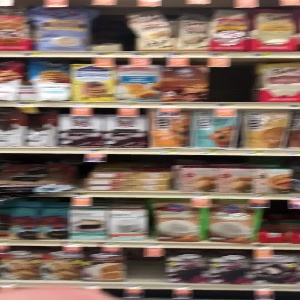void: (213, 53, 259, 100), (126, 247, 166, 285)
